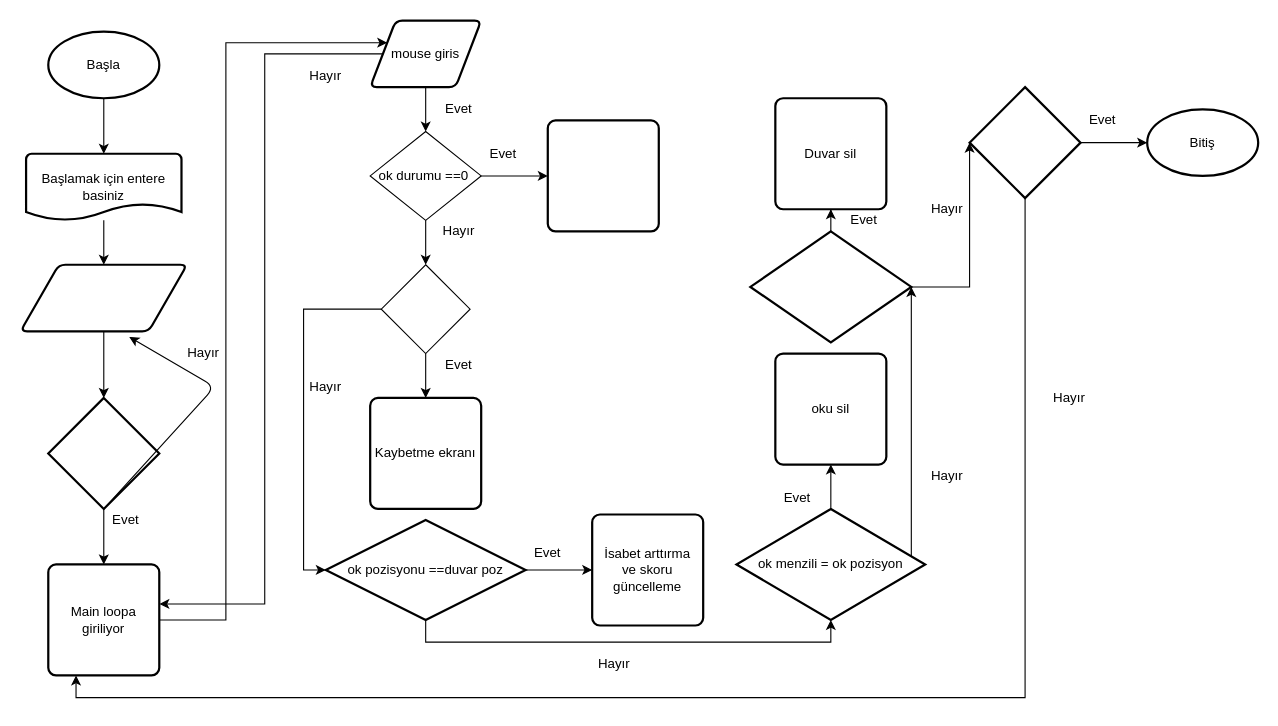
Image size: 1278x726. Some labels were removed from this diagram. Each missing label, with the centre of its shape:
"duvar pozisyonu = 0" belongs at (830,286).
"giris" belongs at (103,297).
"giris == enter" belongs at (103,452).
"Iska >9" belongs at (425,309).
"Ok hareketi" belongs at (602,175).
"çıkış == 1" belongs at (1024,142).
